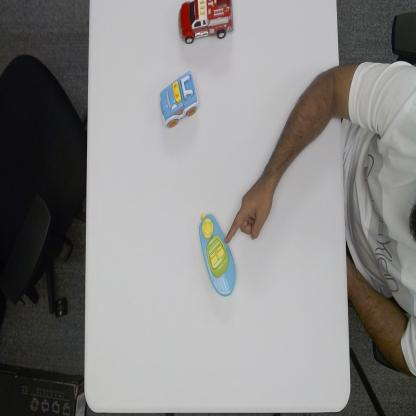Arm: (265, 62, 343, 193)
Boat: (198, 209, 237, 298)
Car: (158, 68, 200, 131)
Firetruck: (177, 0, 235, 46)
Hand: (224, 177, 272, 246)
